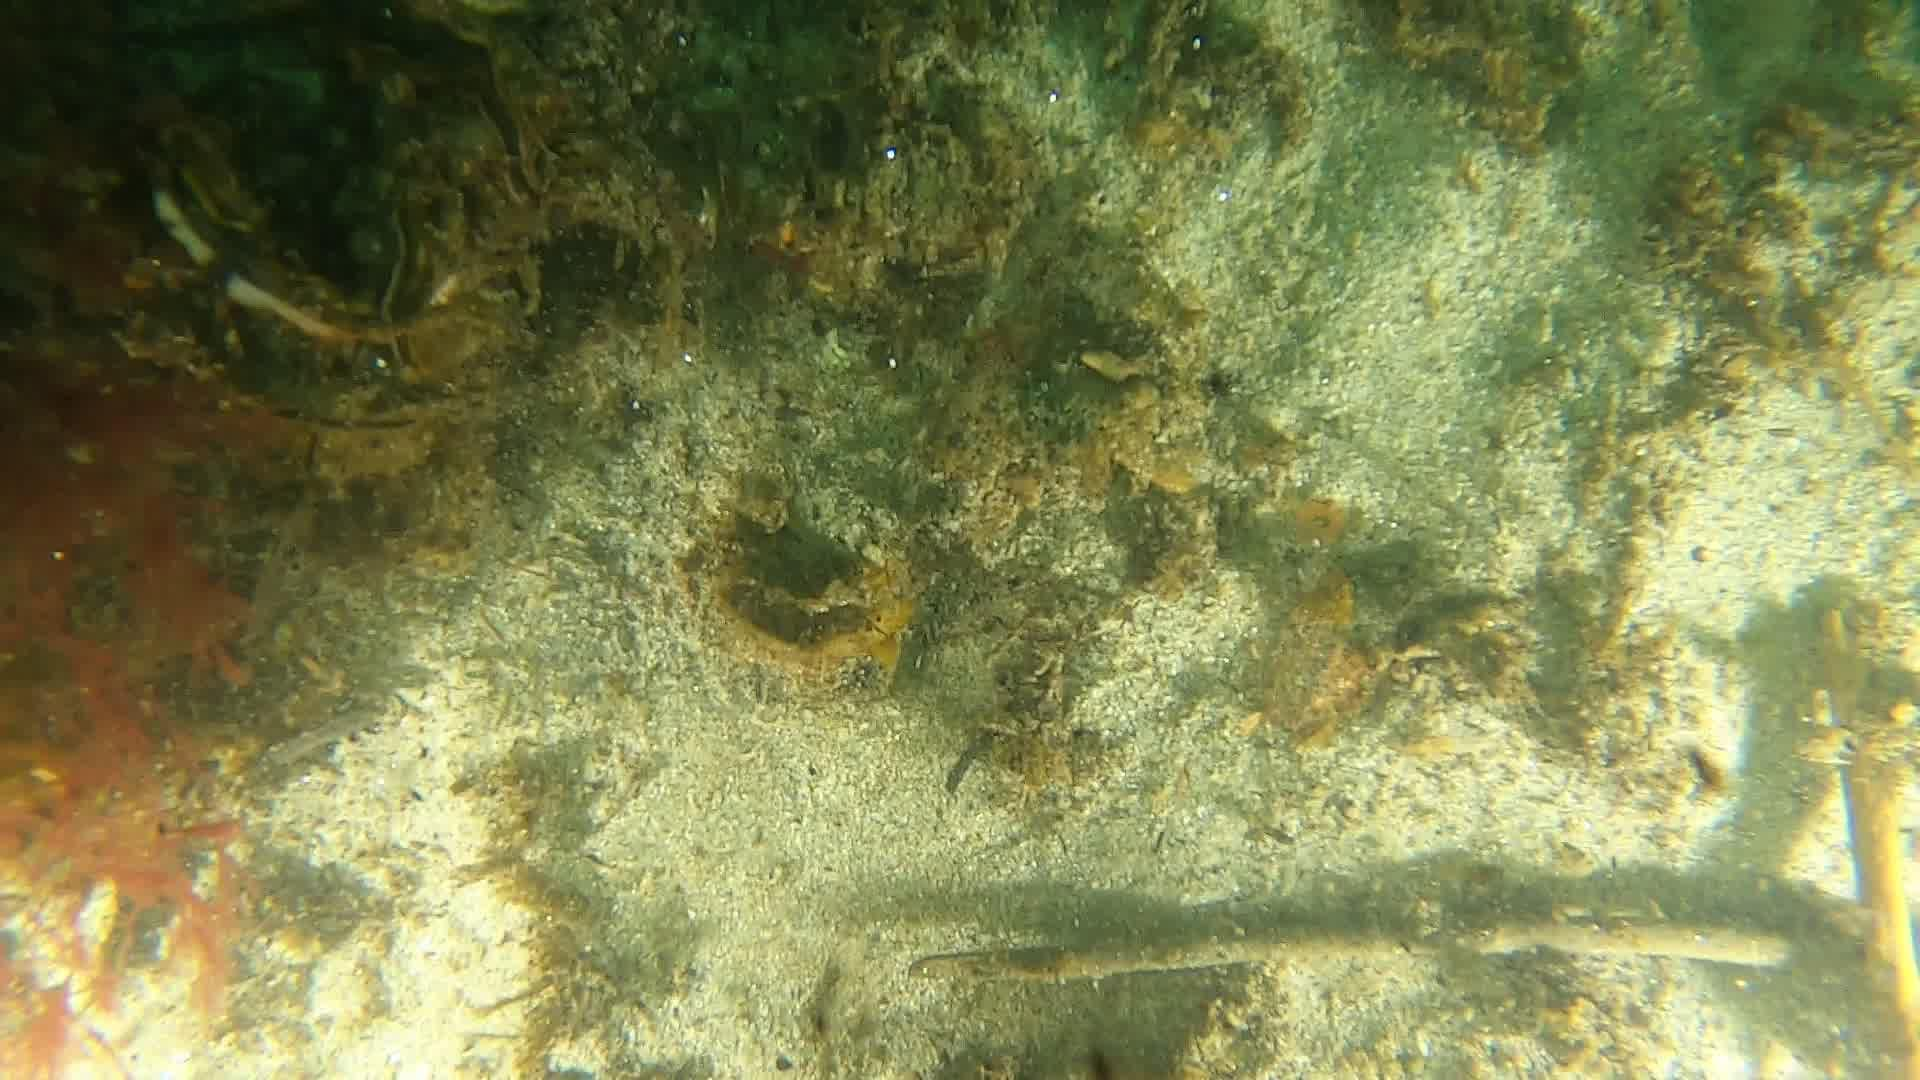wood: (902, 909, 1792, 985), (1818, 600, 1920, 1080)
